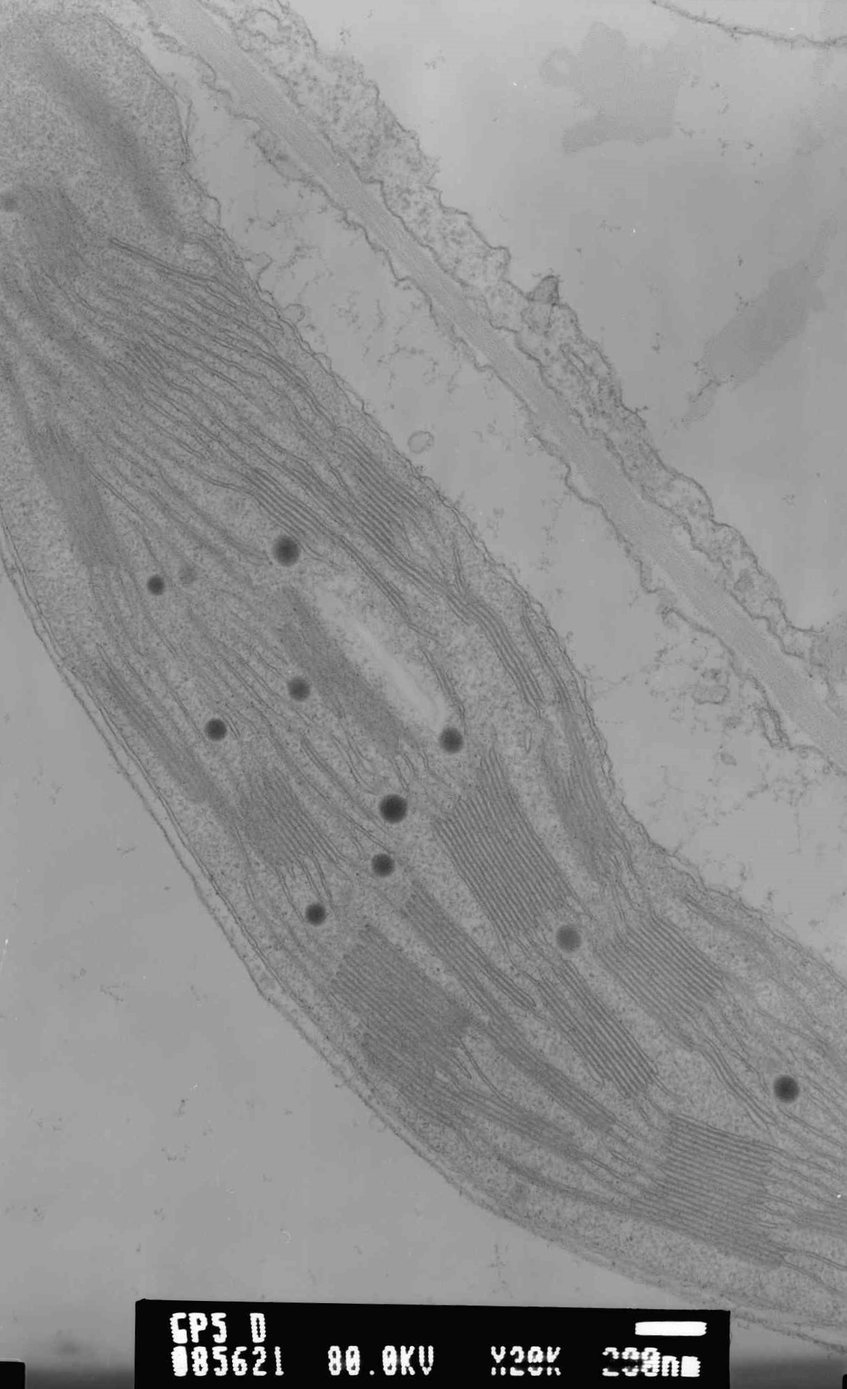granum: (327, 923, 478, 1132), (34, 49, 189, 248), (427, 748, 577, 949), (626, 1110, 788, 1274), (97, 667, 239, 834), (325, 423, 442, 608), (270, 609, 408, 763), (589, 904, 729, 1054), (395, 878, 541, 1018), (535, 684, 630, 887), (534, 957, 662, 1106), (478, 1011, 619, 1141), (21, 423, 133, 571), (440, 577, 547, 717), (236, 763, 346, 876), (455, 1080, 583, 1168), (238, 463, 345, 552), (698, 1040, 781, 1135), (25, 297, 108, 376), (279, 454, 341, 512), (804, 1032, 847, 1091), (788, 1202, 847, 1243), (124, 337, 173, 382), (103, 358, 147, 402)
